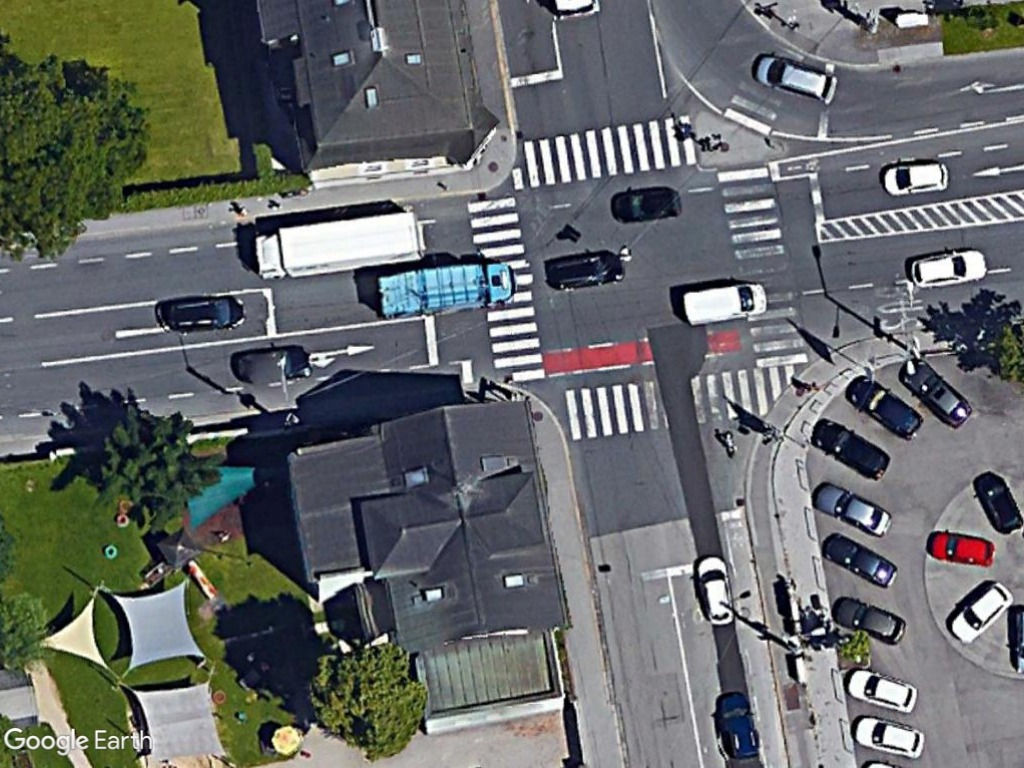car: (896, 353, 973, 434), (844, 369, 923, 444), (748, 49, 842, 110), (806, 415, 892, 481), (807, 478, 895, 540), (941, 575, 1016, 644), (815, 531, 903, 589), (153, 291, 251, 339), (839, 660, 922, 715), (829, 592, 909, 646), (902, 244, 989, 292), (849, 712, 928, 762), (688, 550, 736, 631), (917, 524, 998, 570), (877, 159, 952, 198)
truck: (248, 202, 429, 286), (372, 255, 518, 321)
van: (674, 275, 771, 331)
